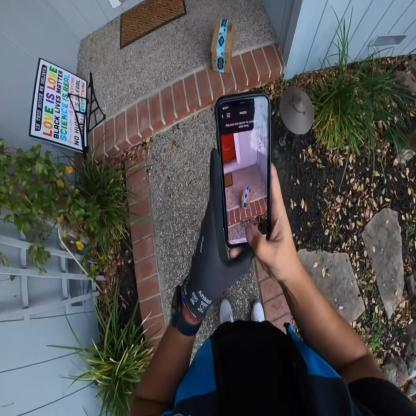package: (209, 15, 237, 78), (238, 184, 254, 212)
